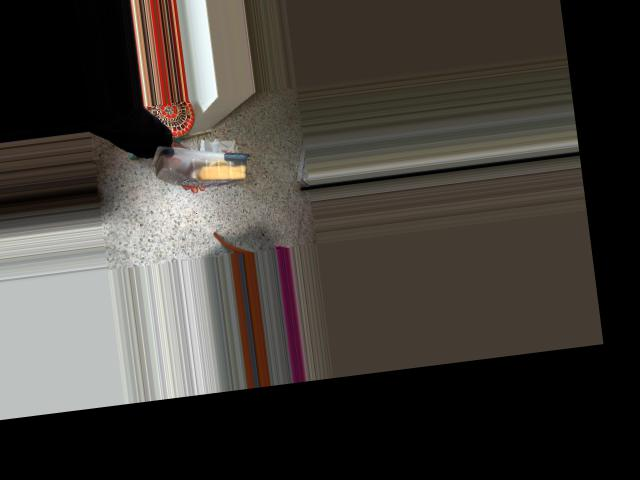cheese: (147, 132, 251, 195)
